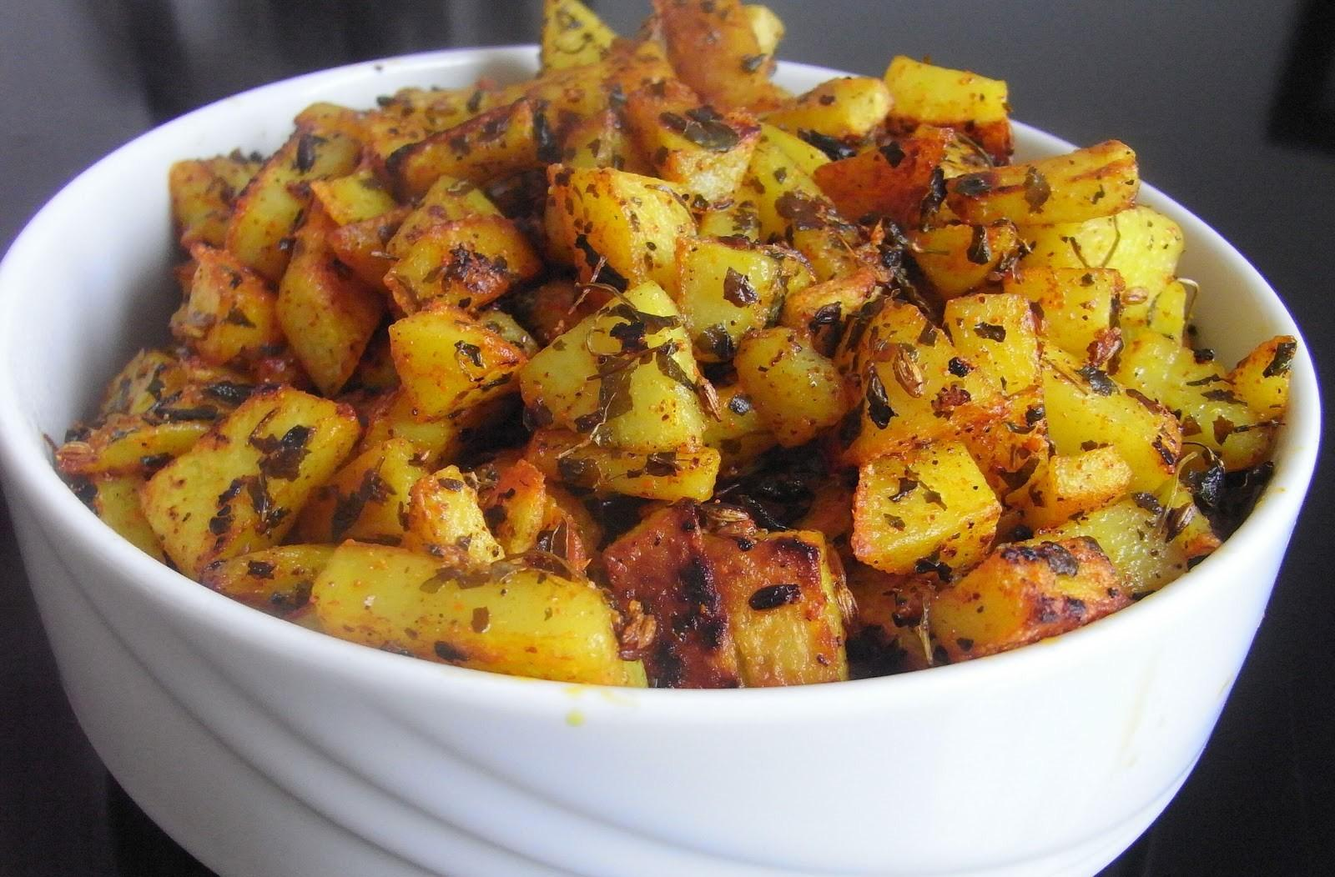AlooMasala: (41, 0, 1295, 688)
